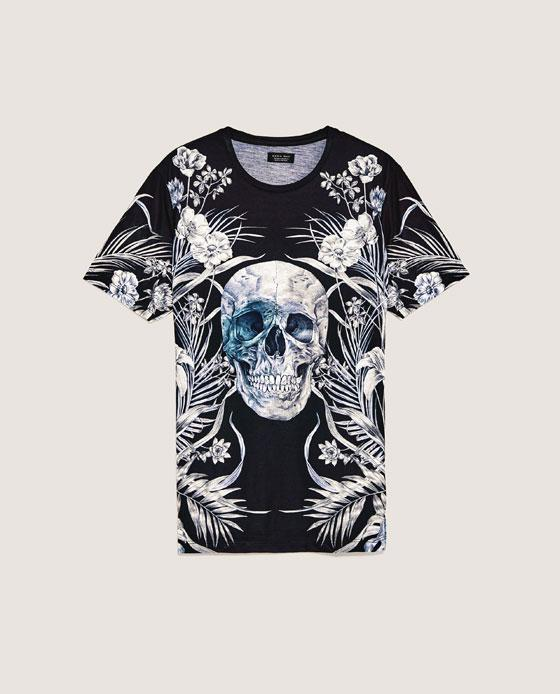teeshirt: (77, 125, 480, 576)
